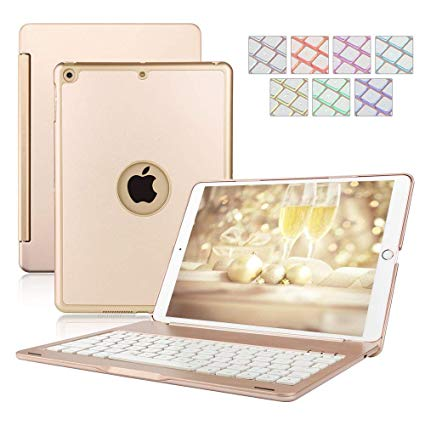apple: (123, 158, 161, 212)
